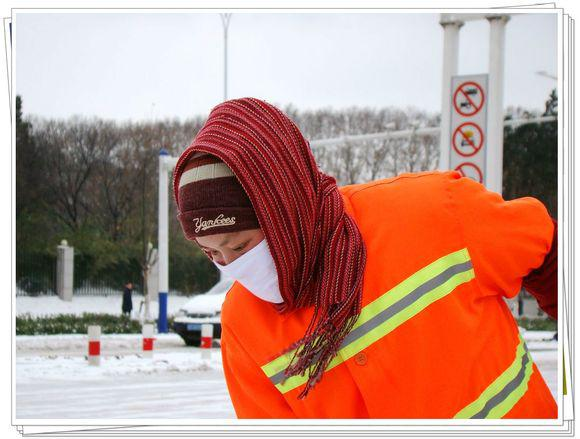OK: (194, 201, 301, 308)
